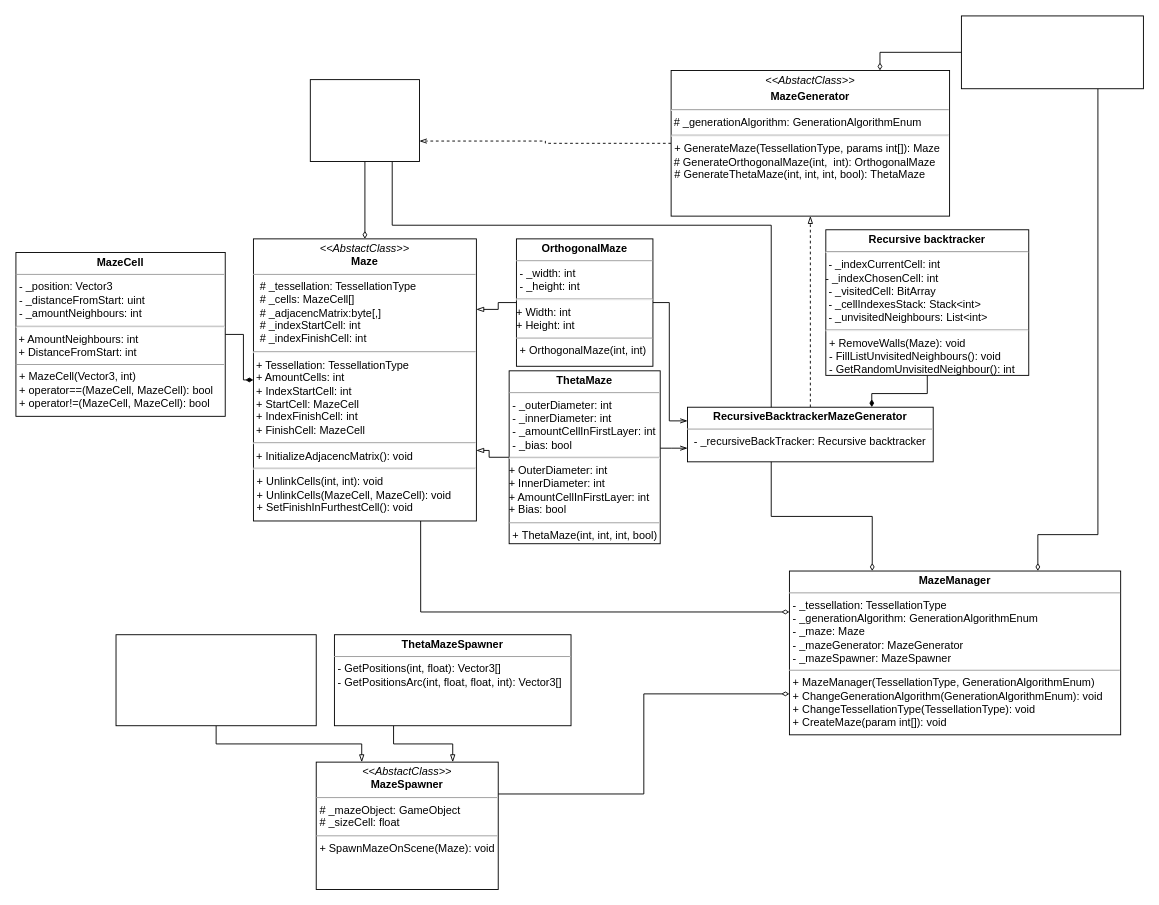
Image size: 1159x905. Some labels were removed from this diagram. The centre of each missing label's shape, as x and y in pixels:
"<<Enumeration>> GenerationAlgorithmEnum RecursiveBacktracker" belongs at (x=1052, y=52).
"<<Enumeration>> TessellationType Orthigonal Theta" belongs at (x=364, y=120).
"OrthogonalMazeSpawner - DisableOrthogonalWalls(int, int): void" belongs at (x=215, y=680).
